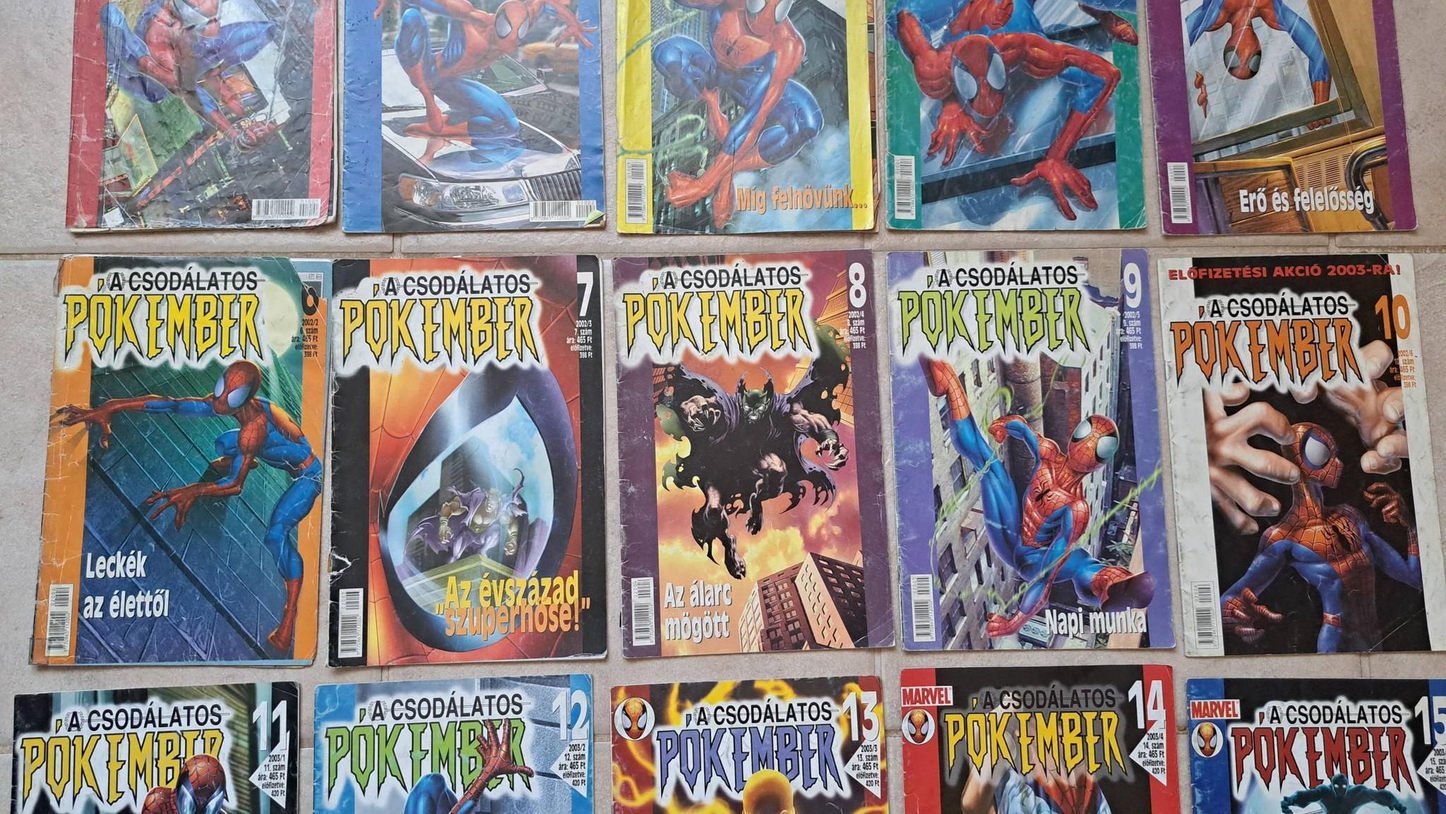comic: (31, 250, 332, 672), (885, 242, 1173, 657), (324, 256, 607, 666), (610, 250, 893, 658)
